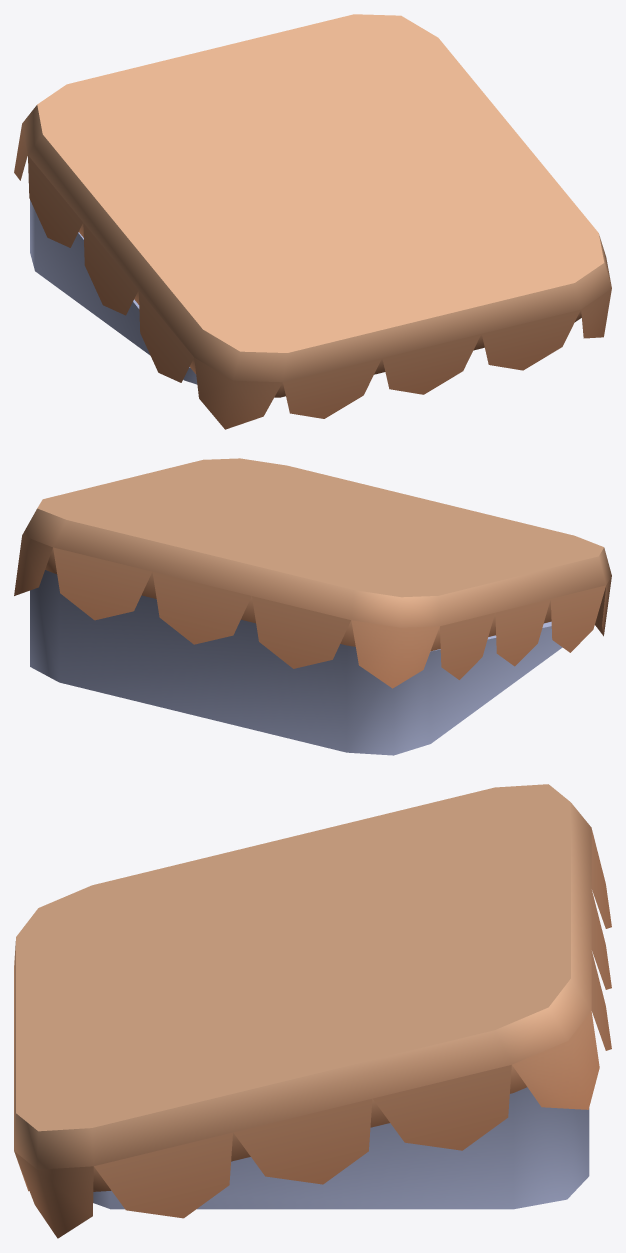
Rendered from block-grass-overhang-large-slope.glb.
3 views of the same model, one above another, from view 1: azimuth 30°, elevation 25°; view 2: azimuth 150°, elevation 25°; view 3: azimuth 270°, elevation 25° (orthographic). The views are drawn at different scales.
Parts seen in each view (by area): view 1: block-grass-overhang-large-slope; view 2: block-grass-overhang-large-slope; view 3: block-grass-overhang-large-slope.
Part boxes in pixels (x1,y1,x2,y2): block-grass-overhang-large-slope: (14, 14, 611, 429); block-grass-overhang-large-slope: (14, 458, 611, 755); block-grass-overhang-large-slope: (14, 784, 611, 1238).
Bounding box in the file's own units: 2.08 × 0.9144 × 2.08.
